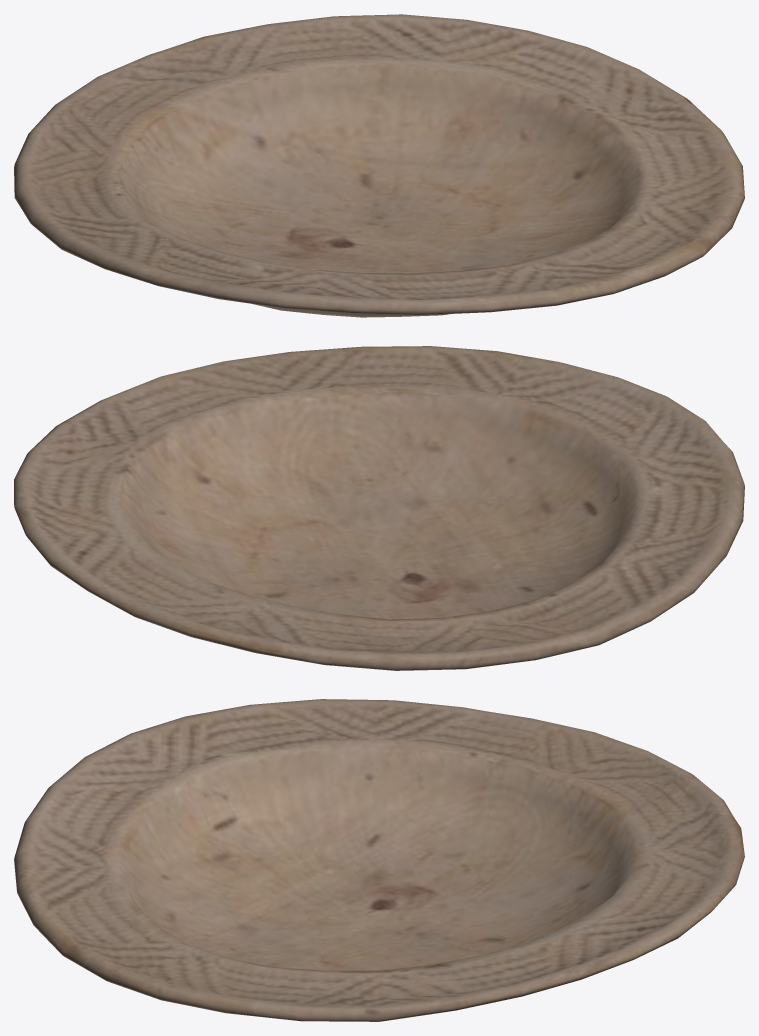
Rendered from carved_wooden_plate.glb.
The picture shows the model from 3 angles, top to bottom: view 1: azimuth 30°, elevation 25°; view 2: azimuth 150°, elevation 25°; view 3: azimuth 270°, elevation 25°; orthographic projection. The views are drawn at different scales.
Visible parts, largest first — view 1: carved_wooden_plate; view 2: carved_wooden_plate; view 3: carved_wooden_plate.
Part boxes in pixels (x1=…): carved_wooden_plate: x1=14, y1=14, x2=744, y2=317; carved_wooden_plate: x1=14, y1=346, x2=744, y2=670; carved_wooden_plate: x1=14, y1=699, x2=744, y2=1021.
Bounding box in the file's own units: 0.2718 × 0.0381 × 0.2688.
Materials: 1 (1 with a texture image).
